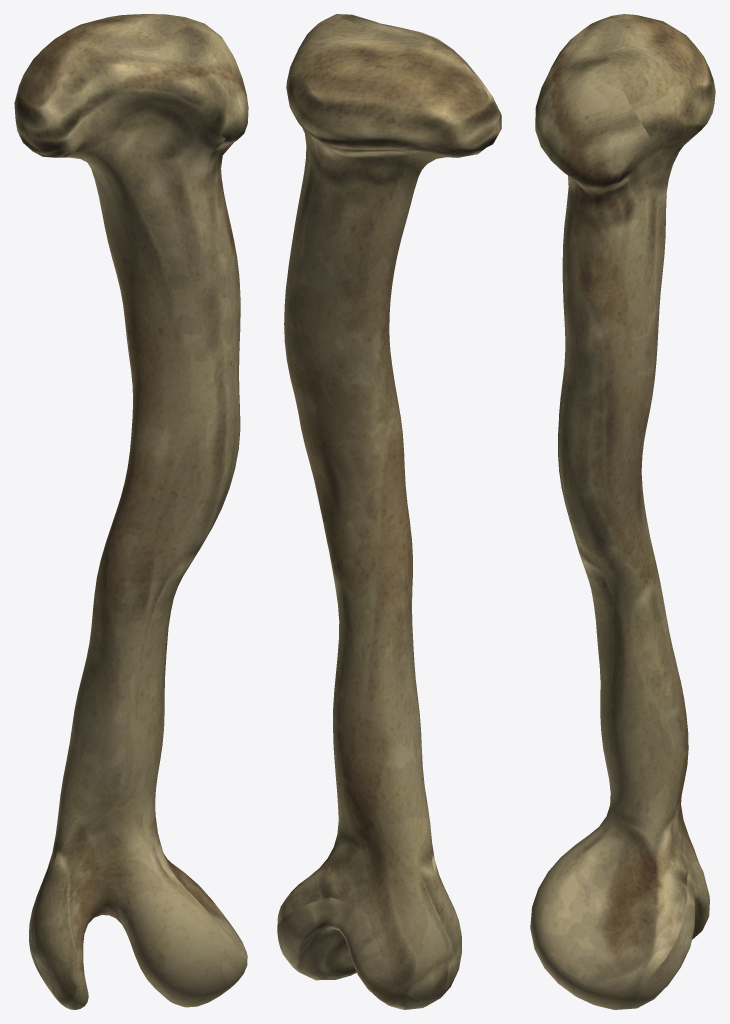
Rendered from YorexBoneA.fbx.
3 views of the same model, side by side, from view 1: azimuth 30°, elevation 25°; view 2: azimuth 150°, elevation 25°; view 3: azimuth 270°, elevation 25° (orthographic). The views are drawn at different scales.
Visible parts, largest first — view 1: miscLegBoneA1; view 2: miscLegBoneA1; view 3: miscLegBoneA1.
Part boxes in pixels (box(x1,y1,x2,y2)): miscLegBoneA1: box(14, 14, 248, 1009); miscLegBoneA1: box(277, 14, 501, 1009); miscLegBoneA1: box(530, 14, 715, 1009).
Bounding box in the file's own units: 23.12 × 102 × 18.07.
